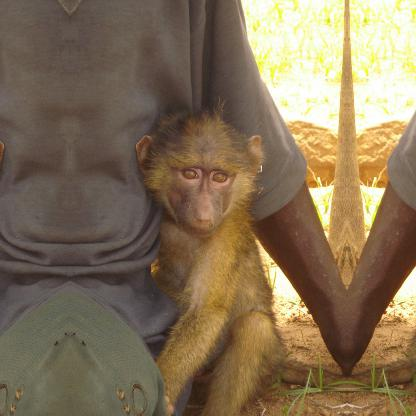Monkey: (132, 95, 286, 415)
